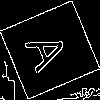A: (24, 25, 78, 75)
